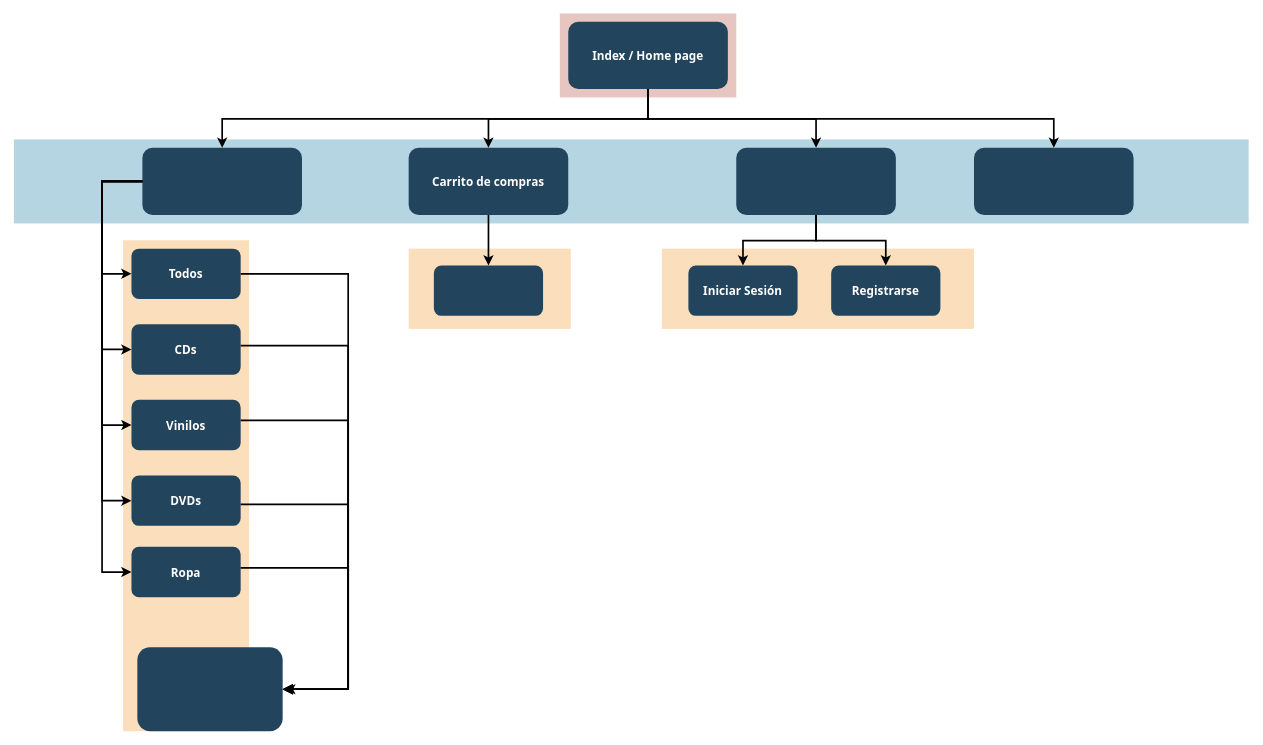
This 1263x745 diagram has some shape labels left out. Each missing label, with the box of its shape:
Checkout: (433, 265, 543, 315)
Contacto: (974, 147, 1133, 215)
Cuenta: (736, 147, 895, 215)
Detalles del producto: (137, 647, 282, 731)
Productos: (142, 147, 302, 215)
